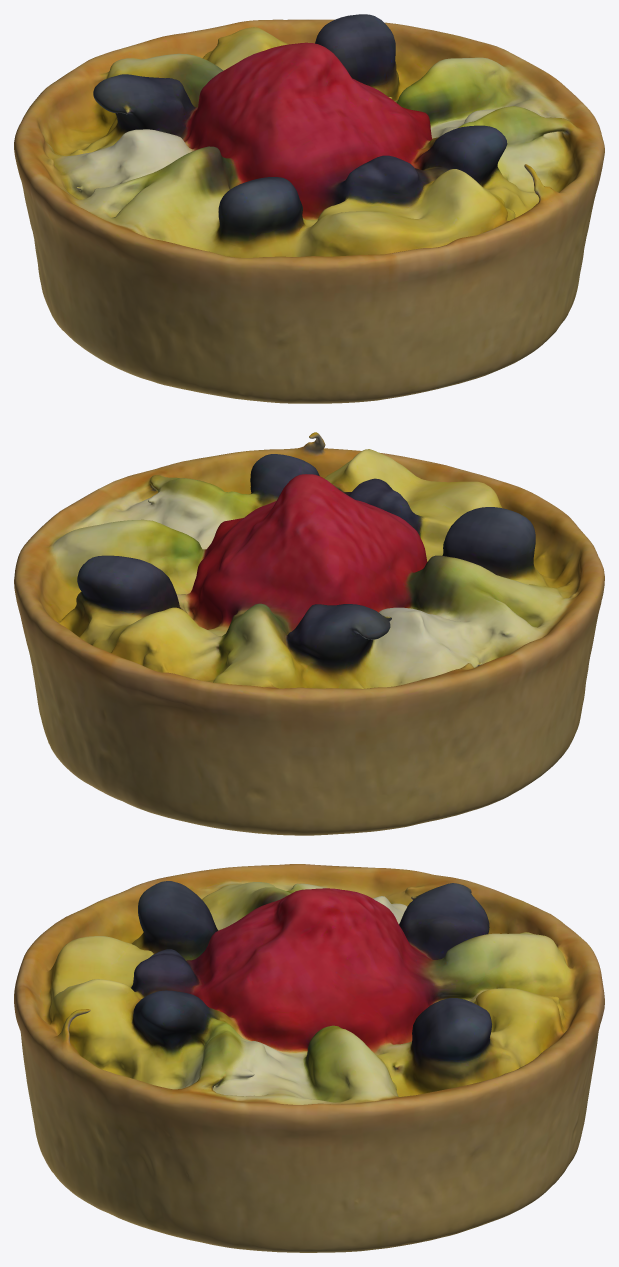
Rendered from 51452f519fca_Fruit_tart__3d_asse.fbx.
The picture shows the model from 3 angles, top to bottom: view 1: azimuth 30°, elevation 25°; view 2: azimuth 150°, elevation 25°; view 3: azimuth 270°, elevation 25°; orthographic projection.
Parts seen in each view (by area): view 1: high_poly; view 2: high_poly; view 3: high_poly.
Boxes of the visible parts, x1,y1,x2,y2 form: high_poly: (14,14,604,403); high_poly: (14,432,604,835); high_poly: (14,864,604,1252).
Size of the model in its own units: 100 by 50.03 by 99.77.
